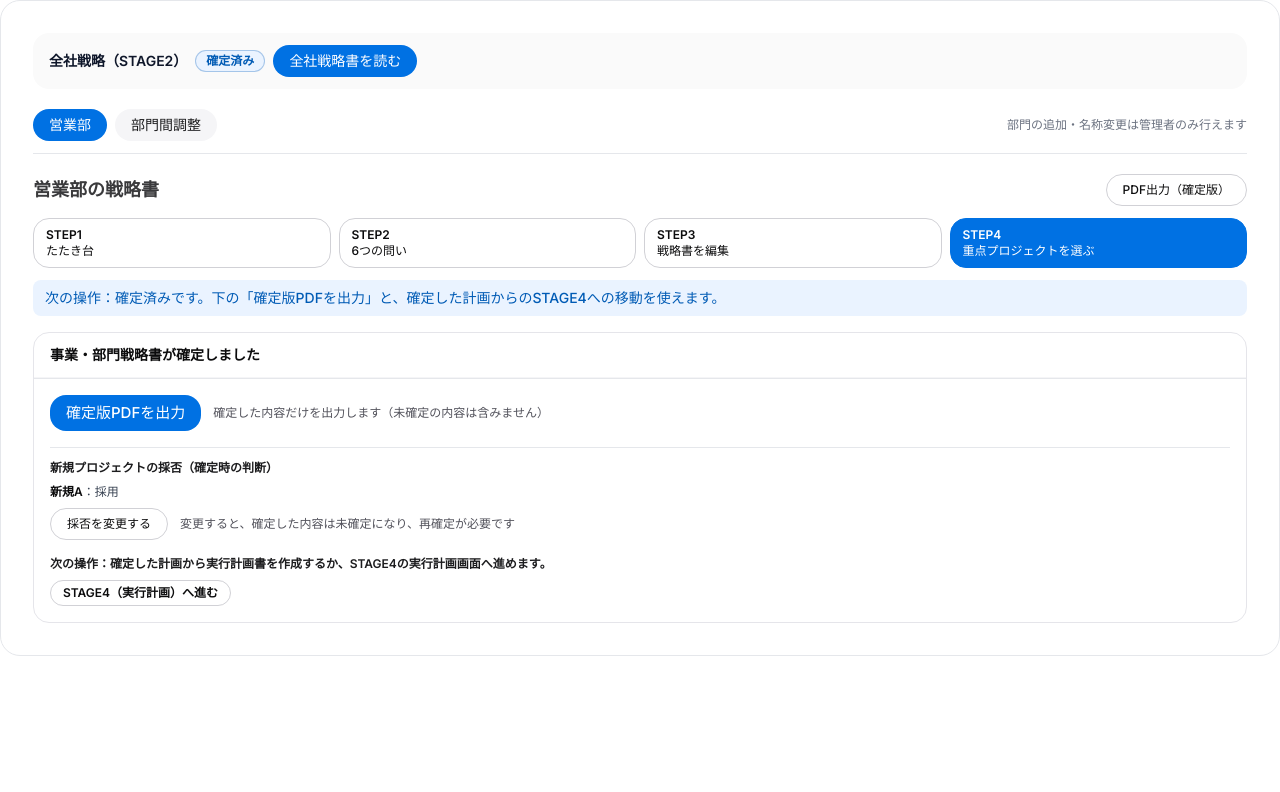
確定後の表示 › STEP3を行き来しても、確定版と過去の草案を区別して表示し、確定状態は変えない
This screenshot has width=1280, height=792.
Click the button "STEP3 戦略書を編集": click(676, 234) [644, 218, 942, 268]
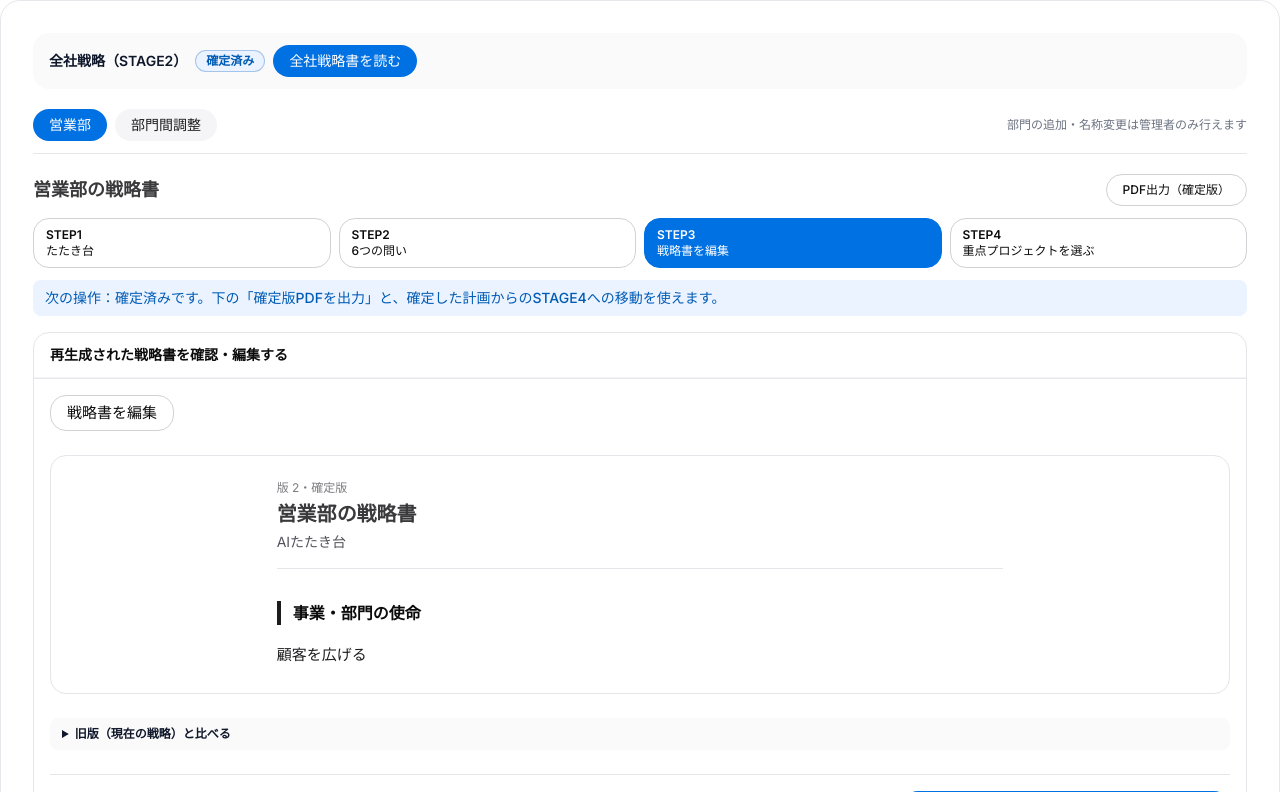
Check: the text "版 2・確定版" is shown, box [277, 480, 347, 495]
Click the button "STEP4 重点プロジェクトを選ぶ": click(982, 234) [950, 218, 1247, 268]
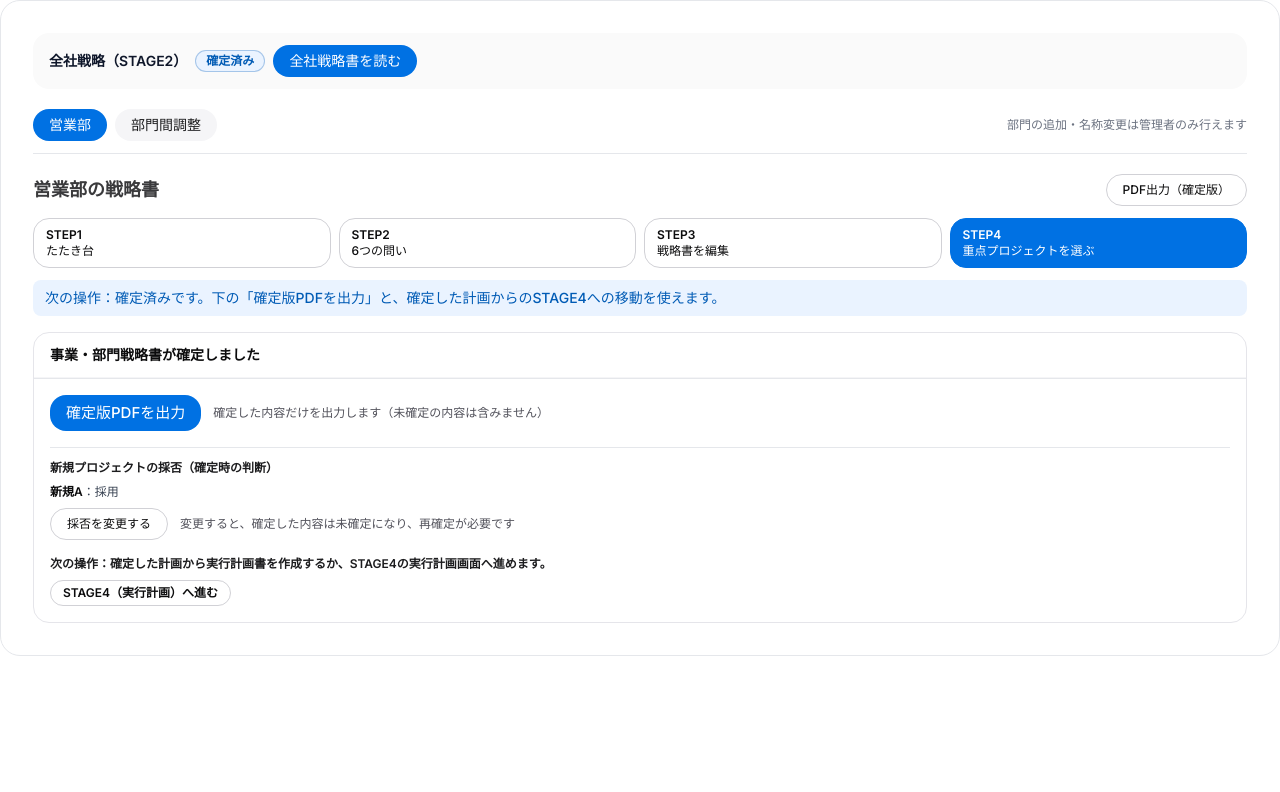
Check: the heading "事業・部門戦略書が確定しました" is shown, box [34, 333, 1246, 378]
